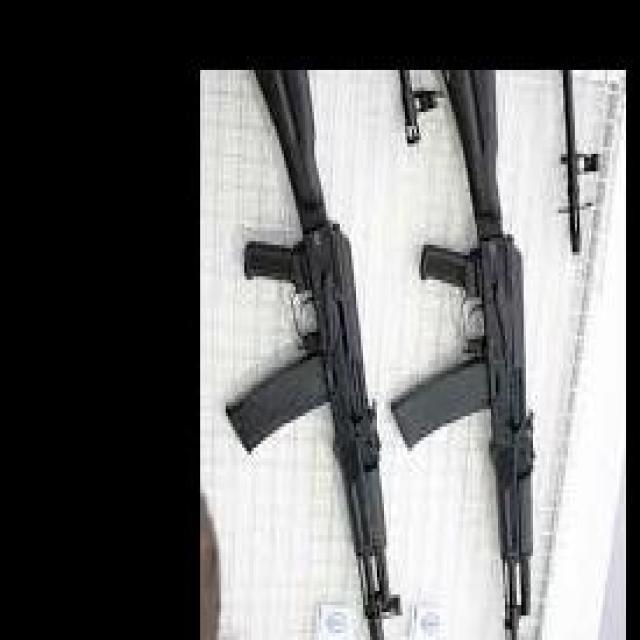weapon: (224, 70, 404, 640), (387, 68, 537, 640)
